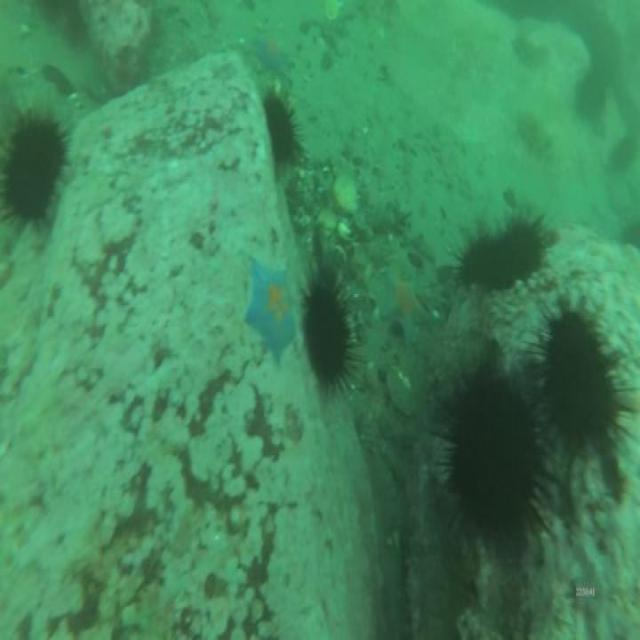echinus: (430, 349, 558, 569), (524, 289, 640, 482), (0, 96, 75, 231), (300, 258, 361, 406), (450, 221, 513, 294), (262, 86, 308, 176), (502, 204, 550, 283), (570, 65, 610, 123), (604, 128, 640, 175)
holothurian: (509, 102, 560, 168), (509, 30, 553, 77)
scallop: (385, 362, 420, 419)
starfish: (242, 251, 298, 367), (377, 256, 431, 354), (248, 30, 291, 82)
